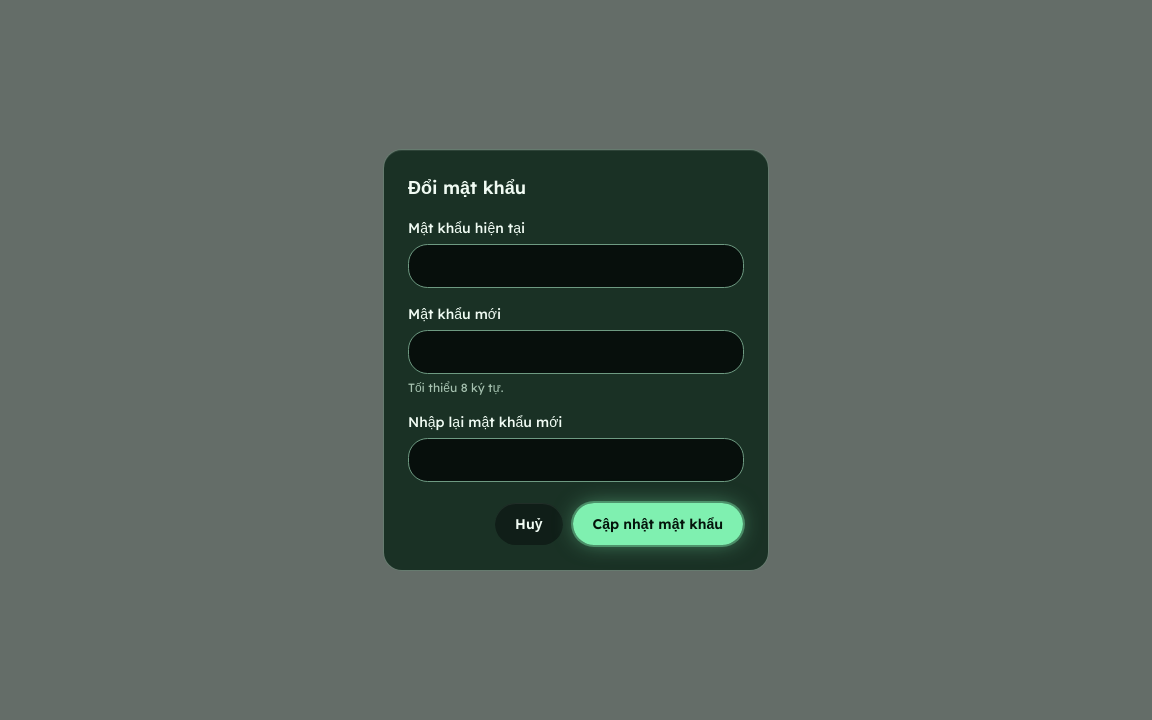
đường server › câu NGUYÊN VĂN của validatePassword được dịch, không hiện tiếng Anh thô (UI-D10)
This screenshot has width=1152, height=720.
Step 1. Type "cu-rich-2026" into the password field labelled "Mật khẩu hiện tại" → (576, 266), box [408,244,744,288]
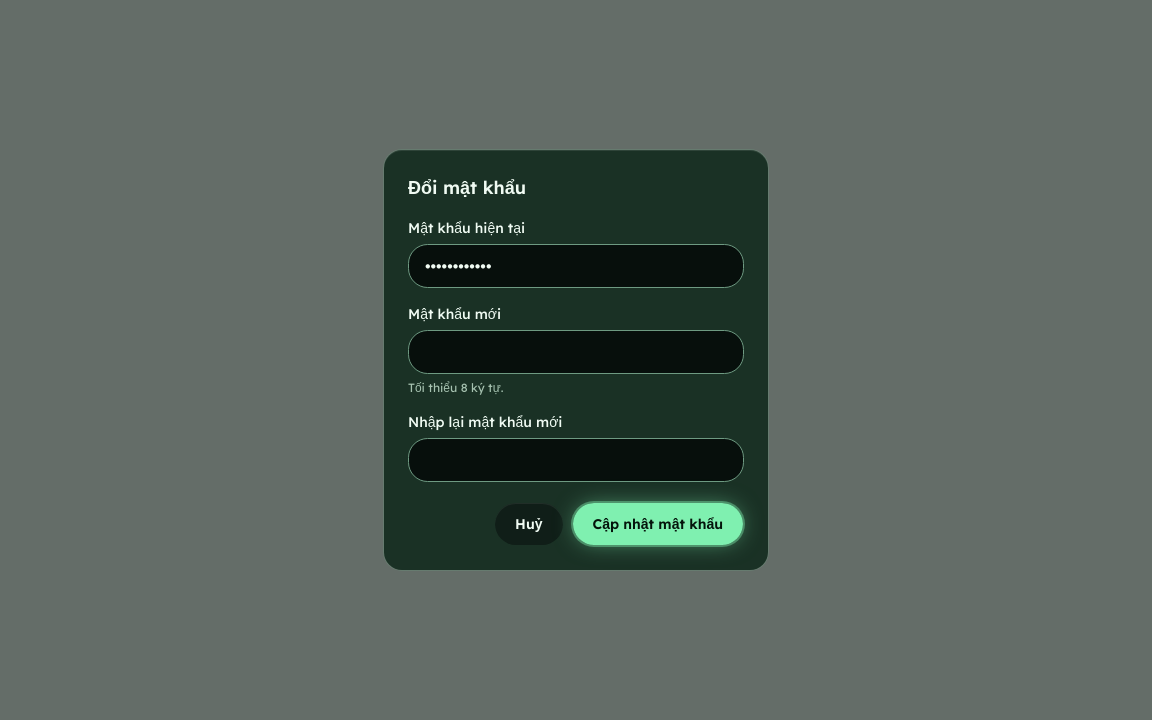
Step 2. Type "password123" into the password field labelled "Mật khẩu mới" → (576, 352), box [408,330,744,374]
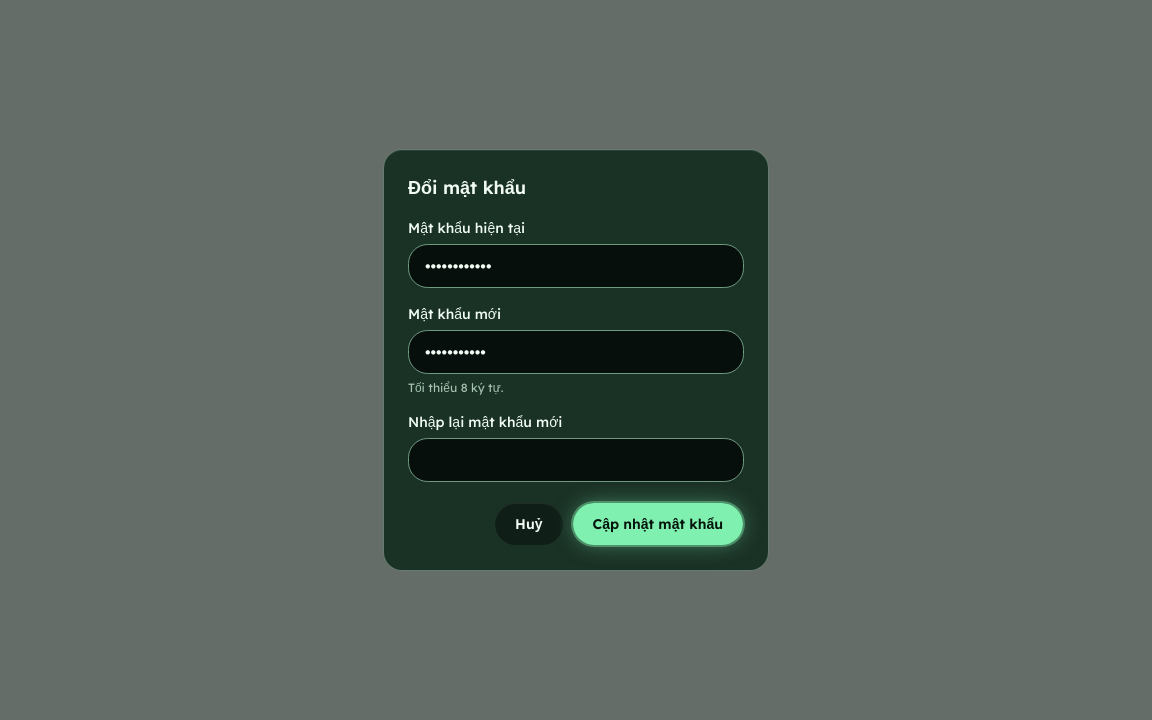
Step 3. Type "password123" into the password field labelled "Nhập lại mật khẩu mới" → (576, 460), box [408,438,744,482]
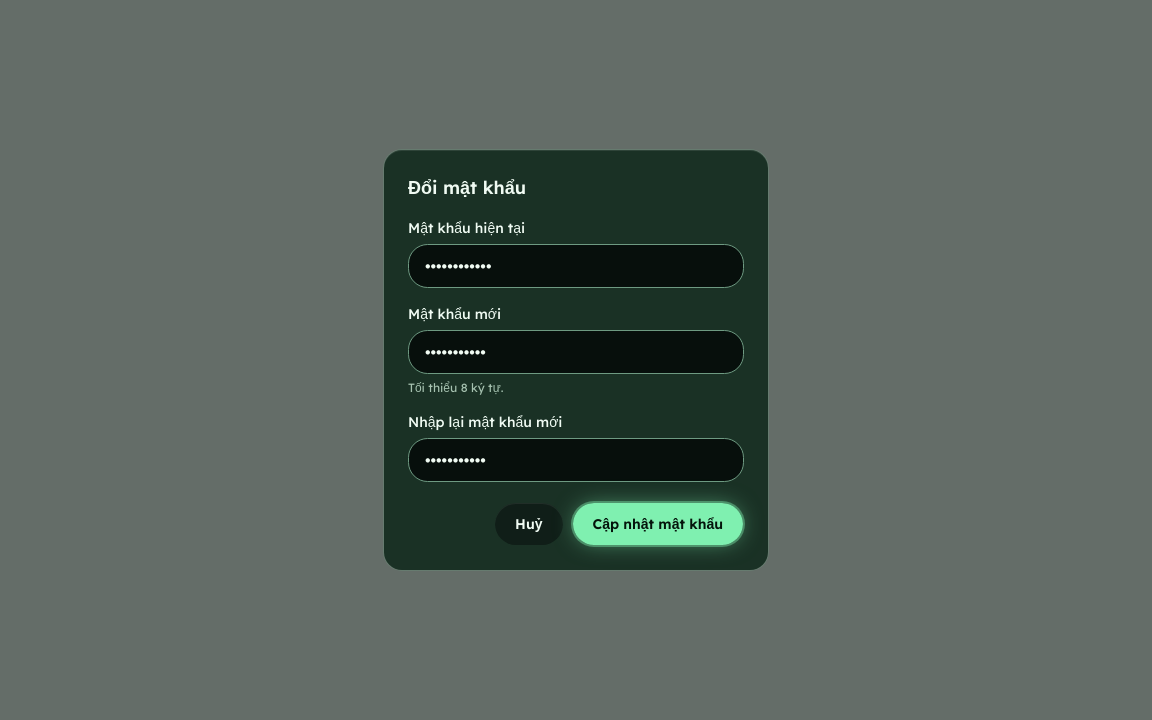
Step 4. Submit the form, box [408,218,744,546]
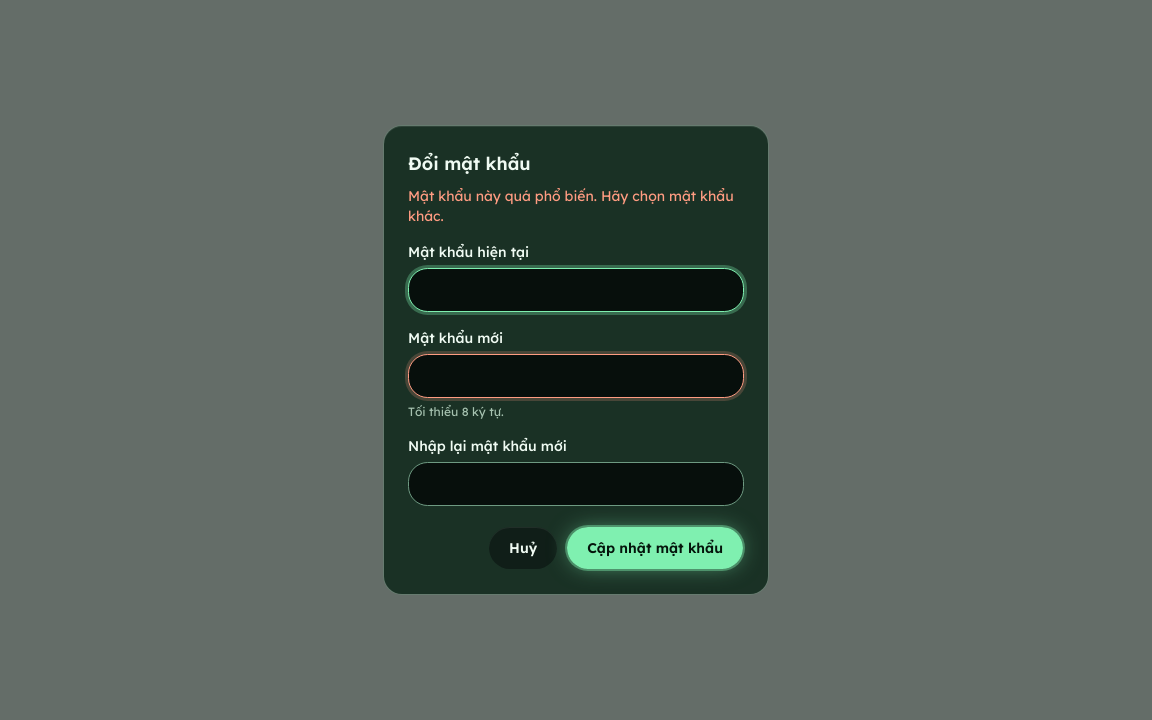
Check: the message reads "Mật khẩu này quá phổ biến. Hãy chọn mật khẩu khác.", box [408,187,734,225]
